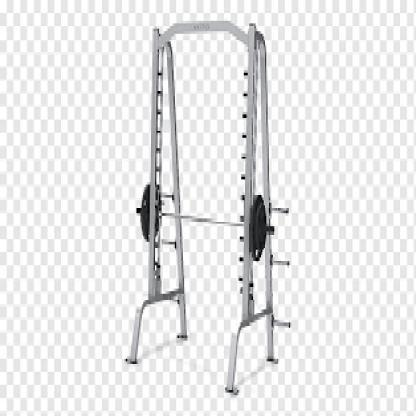smith machine: (127, 18, 291, 394)
